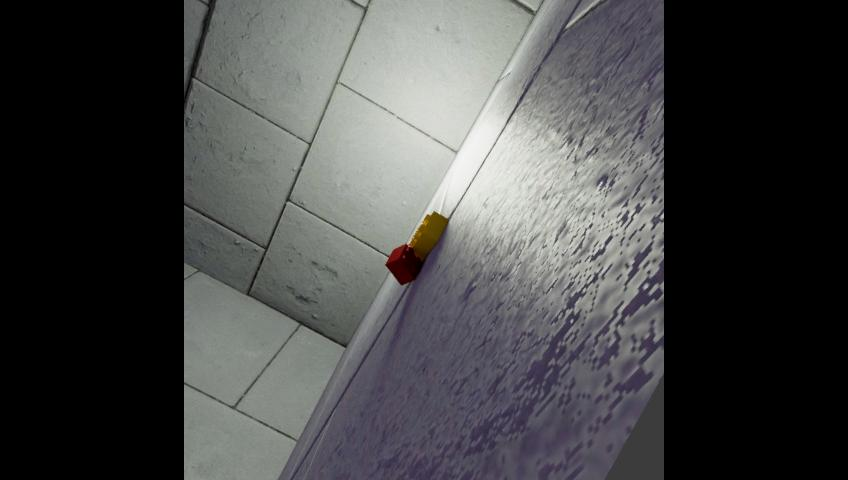2x2_red: (384, 244, 421, 285)
4x2_yellow: (408, 211, 448, 260)
